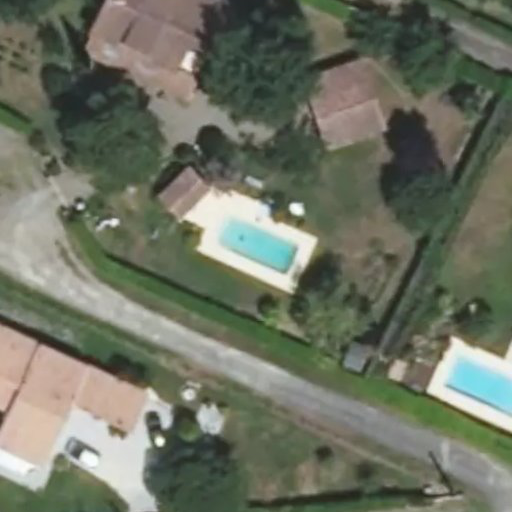pool: (210, 240, 299, 242)
